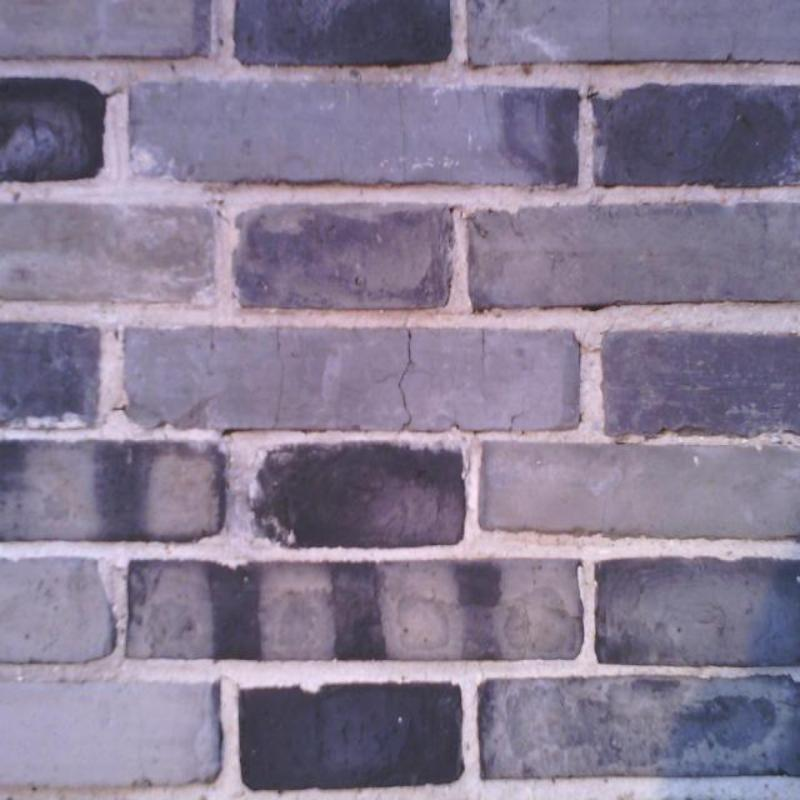crack: (397, 329, 413, 433), (273, 329, 285, 429), (397, 84, 405, 182), (105, 89, 120, 98), (582, 305, 602, 310), (482, 330, 485, 361)
